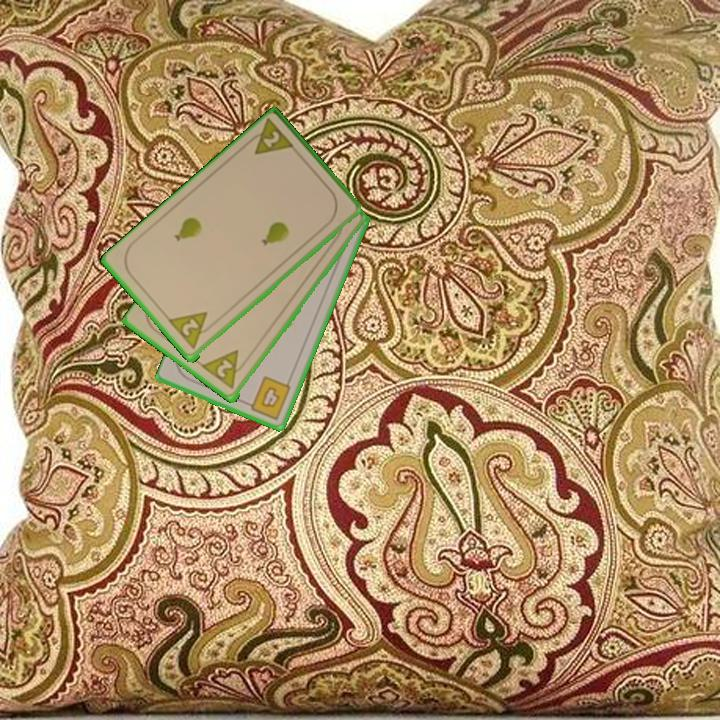2p: (199, 346, 250, 393), (166, 308, 218, 353), (259, 127, 283, 151)
4b: (242, 372, 294, 423)
